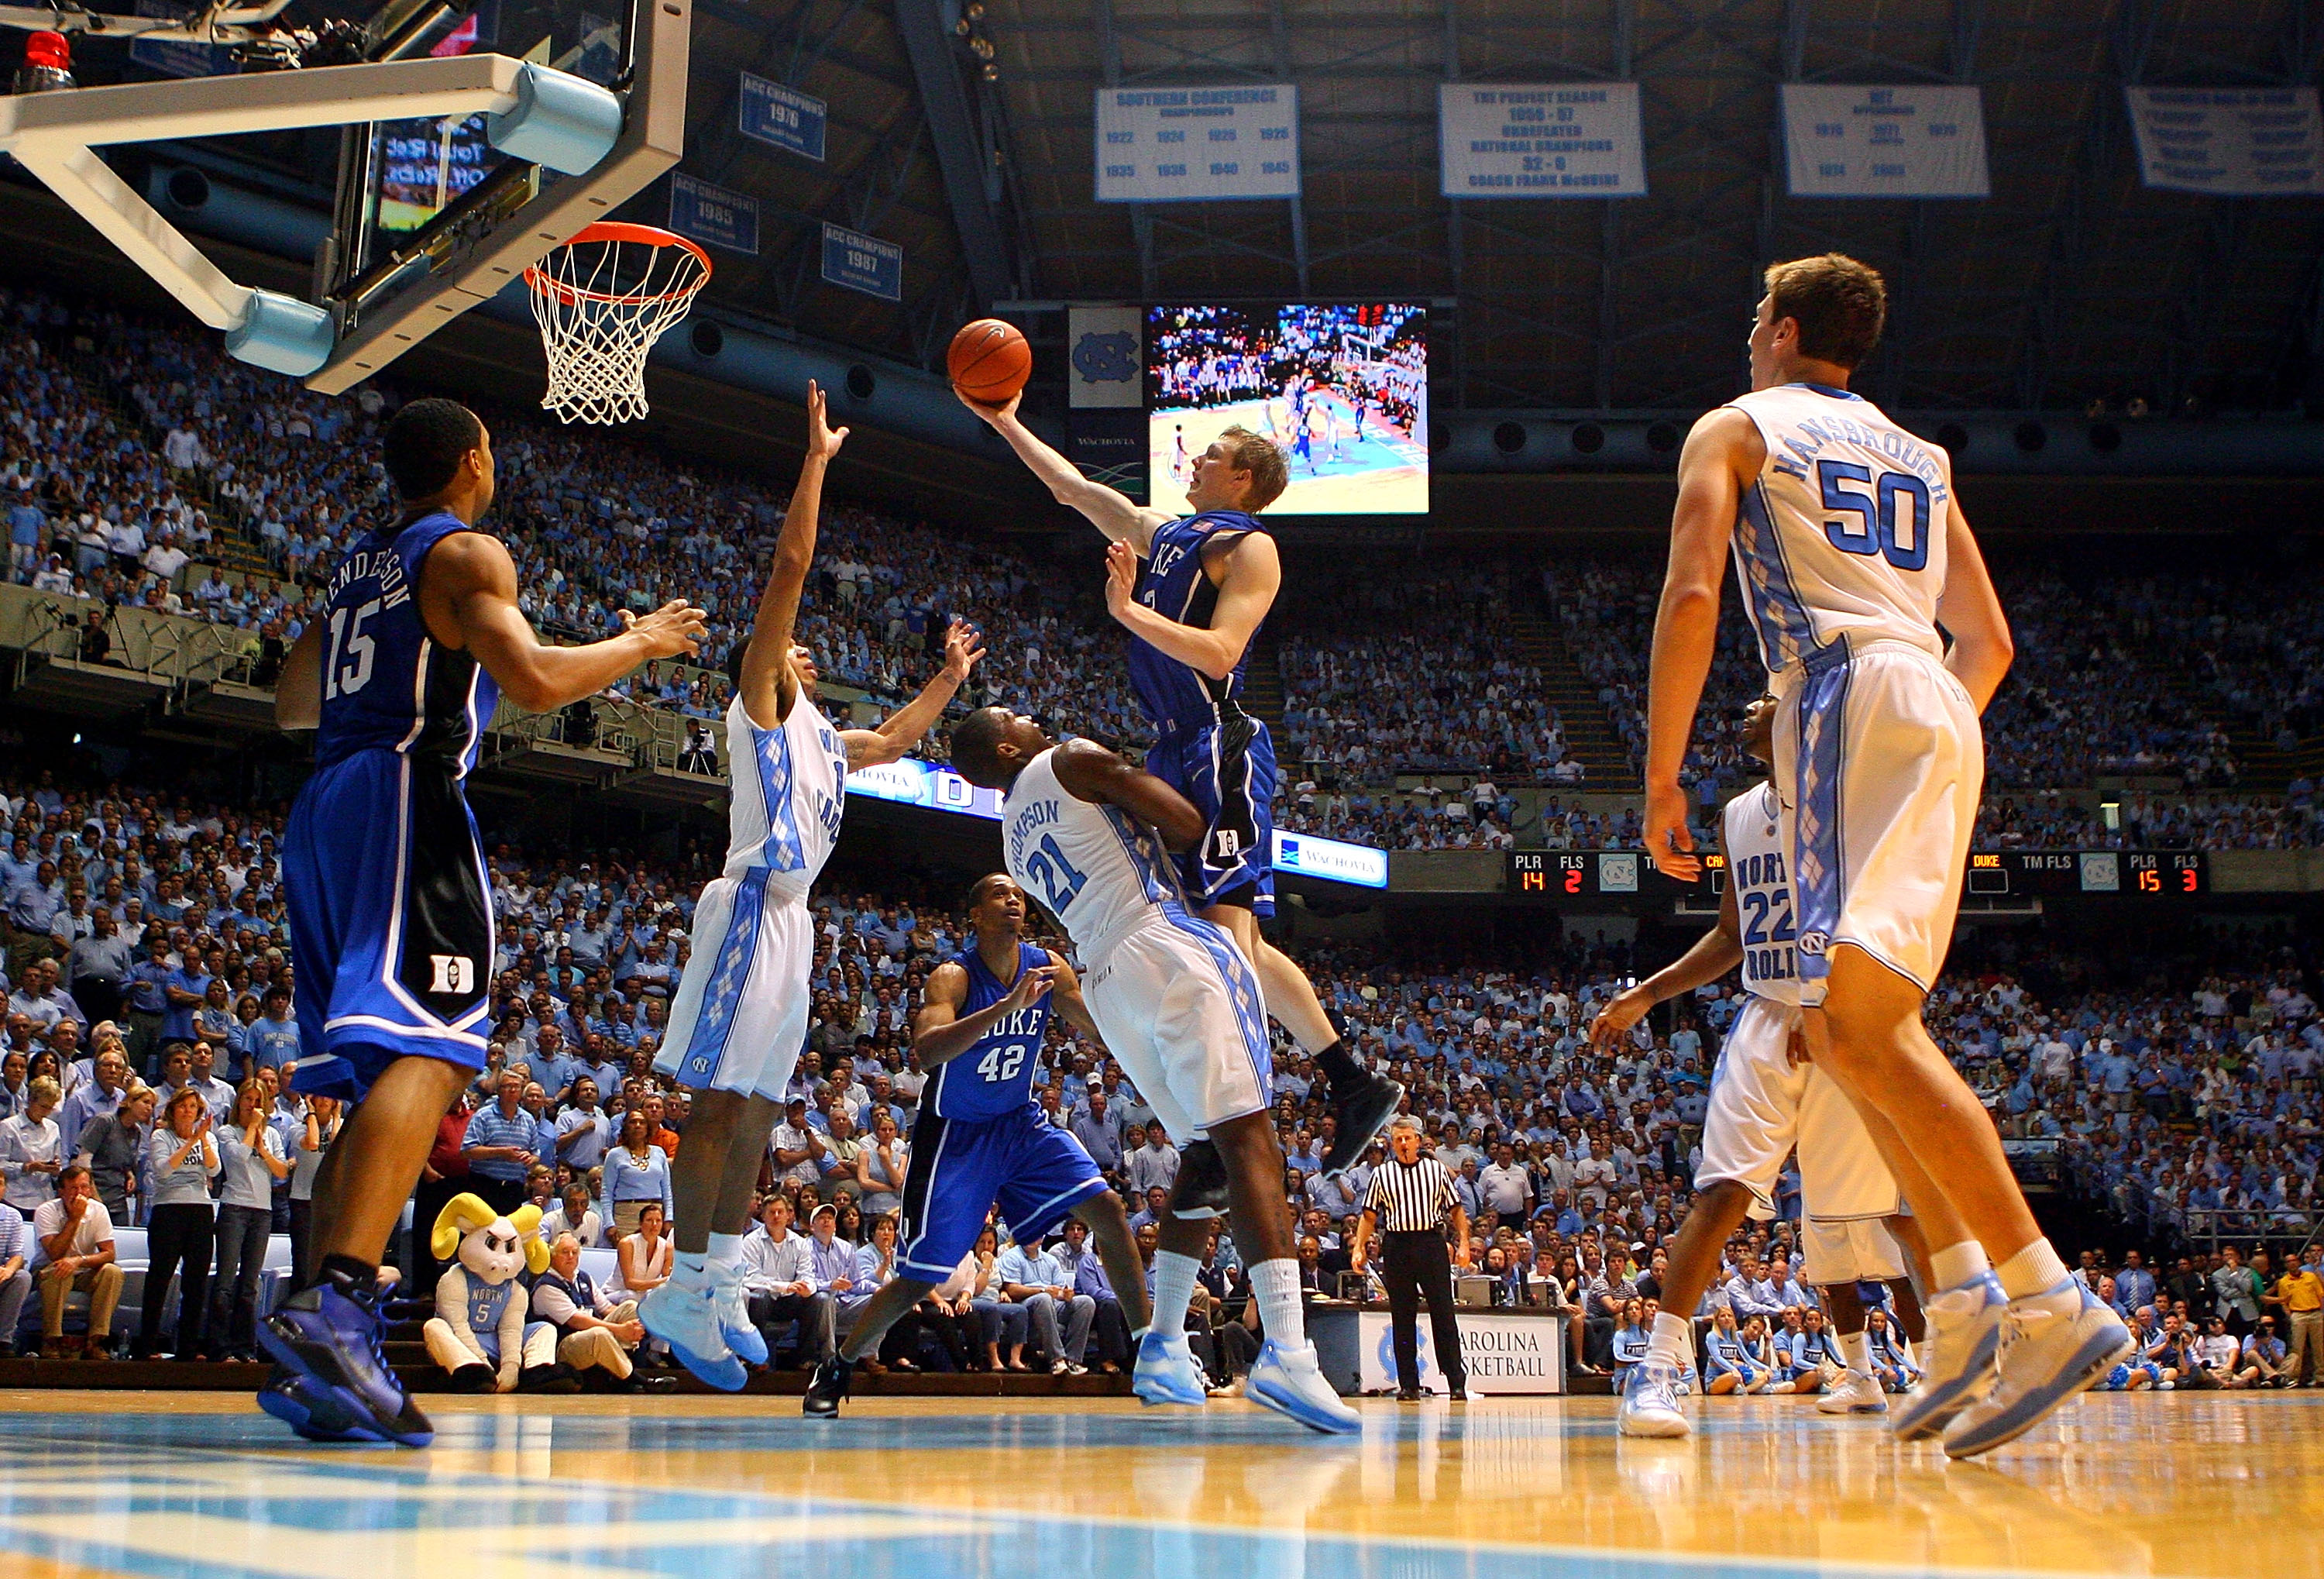basketball: (931, 315, 1049, 415)
basketball player: (1634, 236, 2150, 1467), (247, 409, 579, 1461), (932, 703, 1296, 1450), (656, 378, 889, 1402), (947, 397, 1312, 707)
